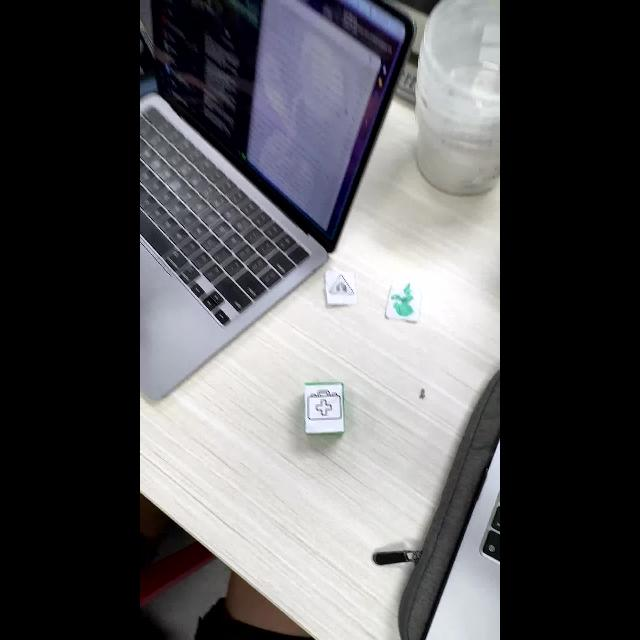Medkit: (306, 387, 342, 422)
